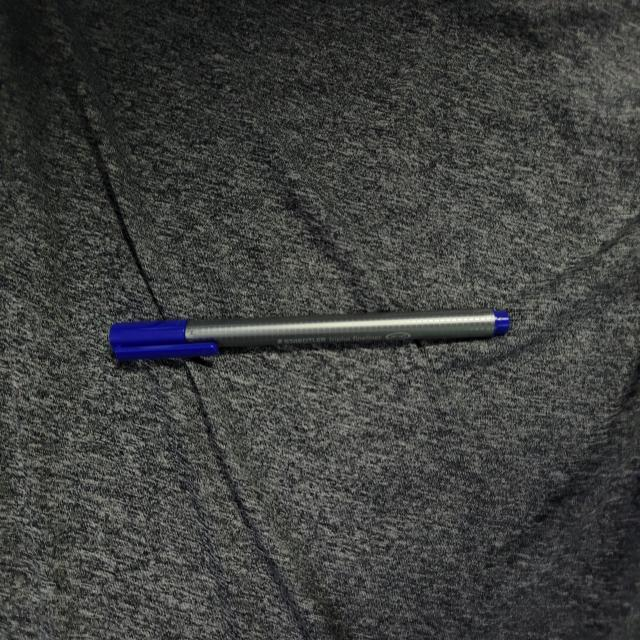caneta: (97, 295, 519, 381)
